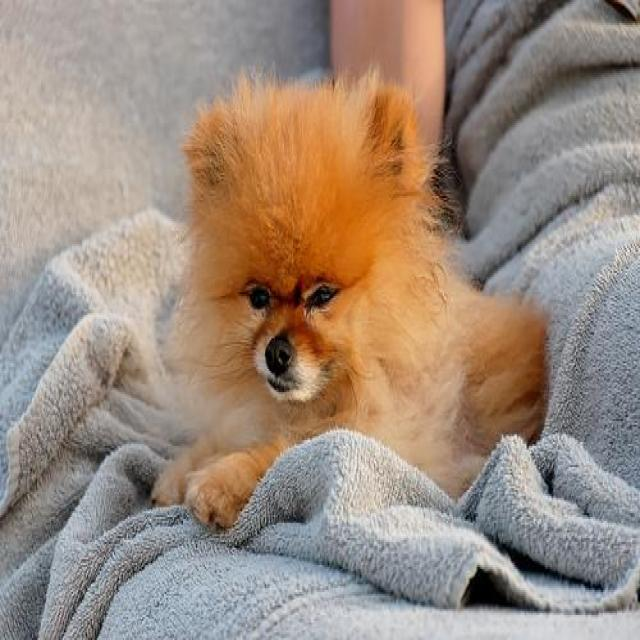relax: (138, 59, 560, 566)
